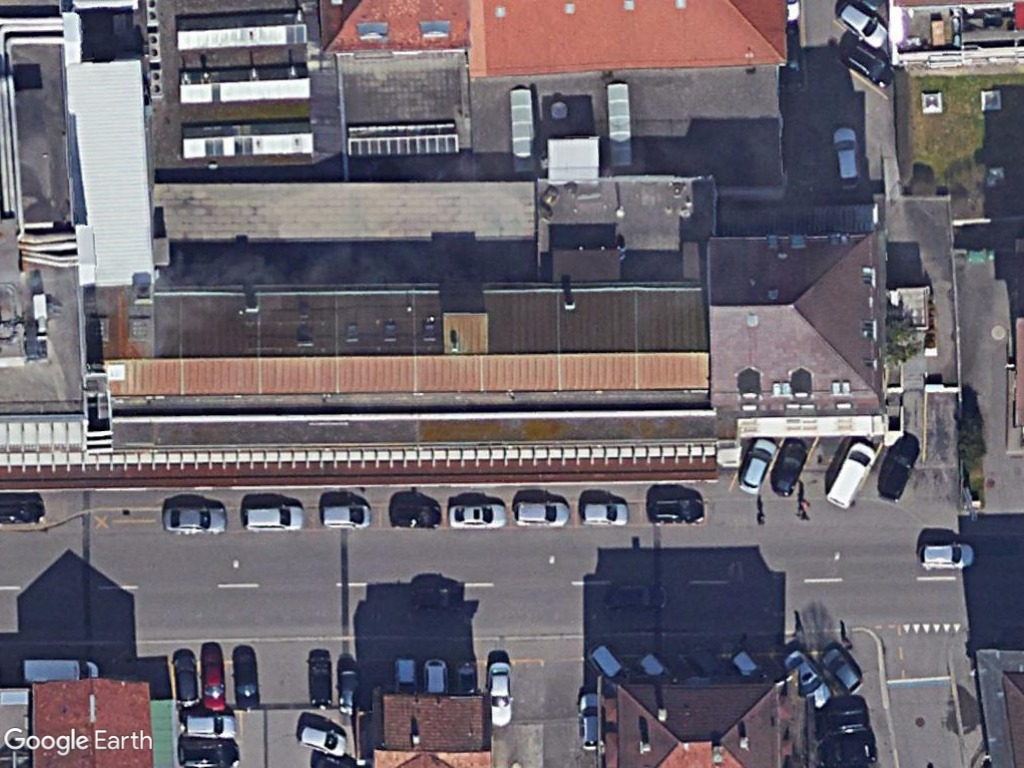car: (836, 1, 889, 50), (738, 438, 779, 497), (484, 658, 516, 729), (832, 125, 865, 193), (822, 645, 865, 696), (163, 506, 230, 536), (200, 646, 230, 712), (446, 501, 511, 530), (241, 504, 308, 532), (295, 724, 349, 758), (513, 499, 572, 530), (917, 541, 976, 570), (317, 500, 374, 530), (578, 498, 632, 528), (183, 713, 239, 740)
van: (825, 440, 880, 512)
